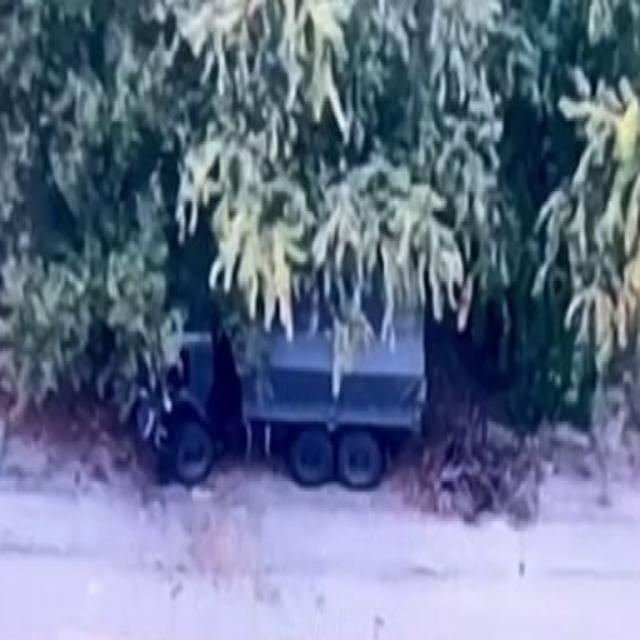TRUCK: (144, 258, 428, 503)
